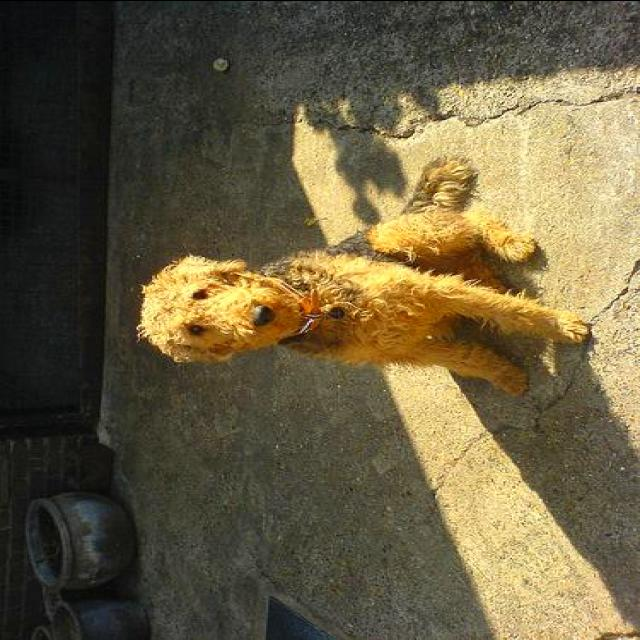airedale: (134, 154, 590, 396)
